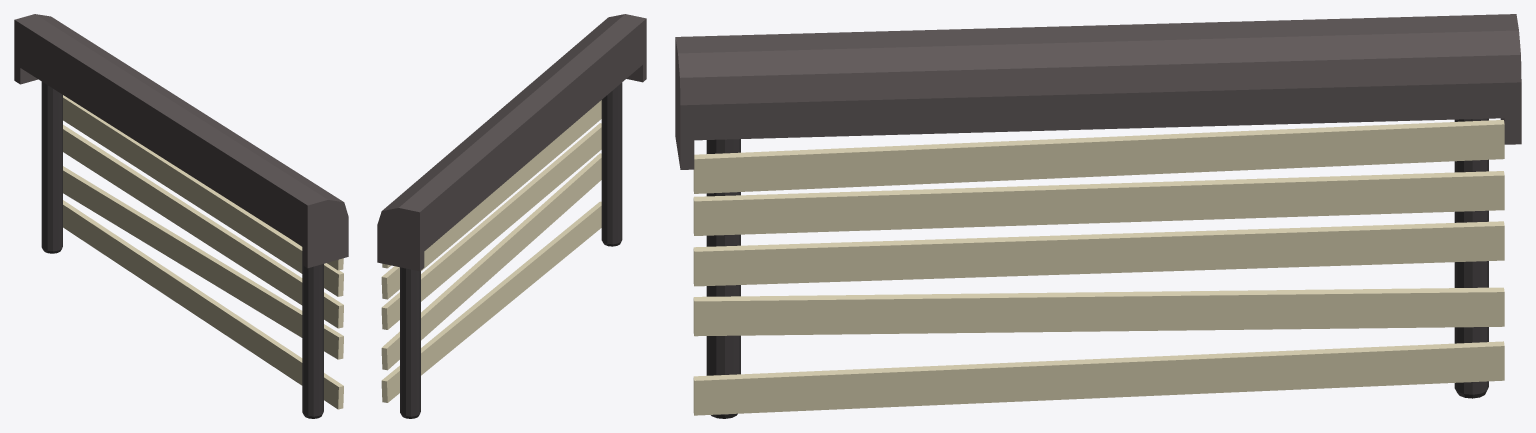
The model's file is shtori.fbx.
The picture shows the model from 3 angles, left to right: view 1: azimuth 30°, elevation 25°; view 2: azimuth 150°, elevation 25°; view 3: azimuth 270°, elevation 25°; orthographic projection. The views are drawn at different scales.
Visible parts, largest first — view 1: shtori; view 2: shtori; view 3: shtori.
Boxes of the visible parts, <box> form: shtori: <box>14,14,348,418</box>; shtori: <box>377,14,646,418</box>; shtori: <box>675,14,1521,418</box>.
Bounding box in the file's own units: 3.46 × 10.39 × 22.14.
